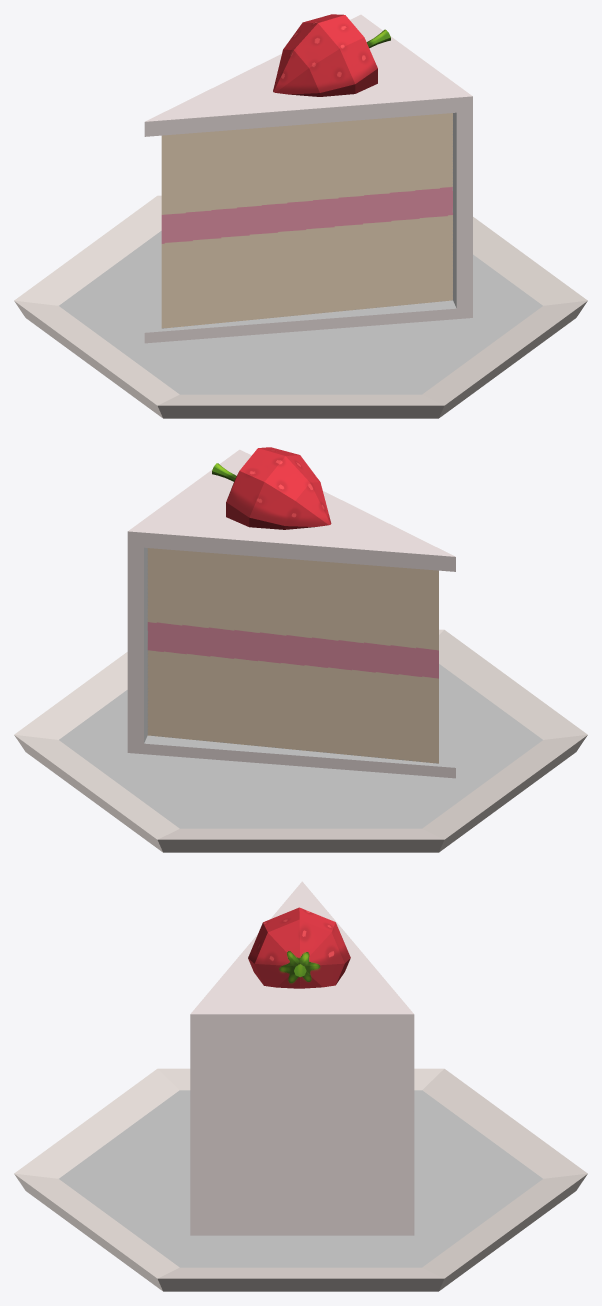
Rendered from Pastel.glb.
3 views of the same model, one above another, from view 1: azimuth 30°, elevation 25°; view 2: azimuth 150°, elevation 25°; view 3: azimuth 270°, elevation 25° (orthographic).
Parts seen in each view (by area): view 1: Pastel; view 2: Pastel; view 3: Pastel.
Part boxes in pixels (x1,y1,x2,y2): Pastel: (14,14,587,418); Pastel: (14,447,587,852); Pastel: (14,881,587,1291).
Bounding box in the file's own units: 25.37 × 16.49 × 29.29.
1 material, 1 textured.
